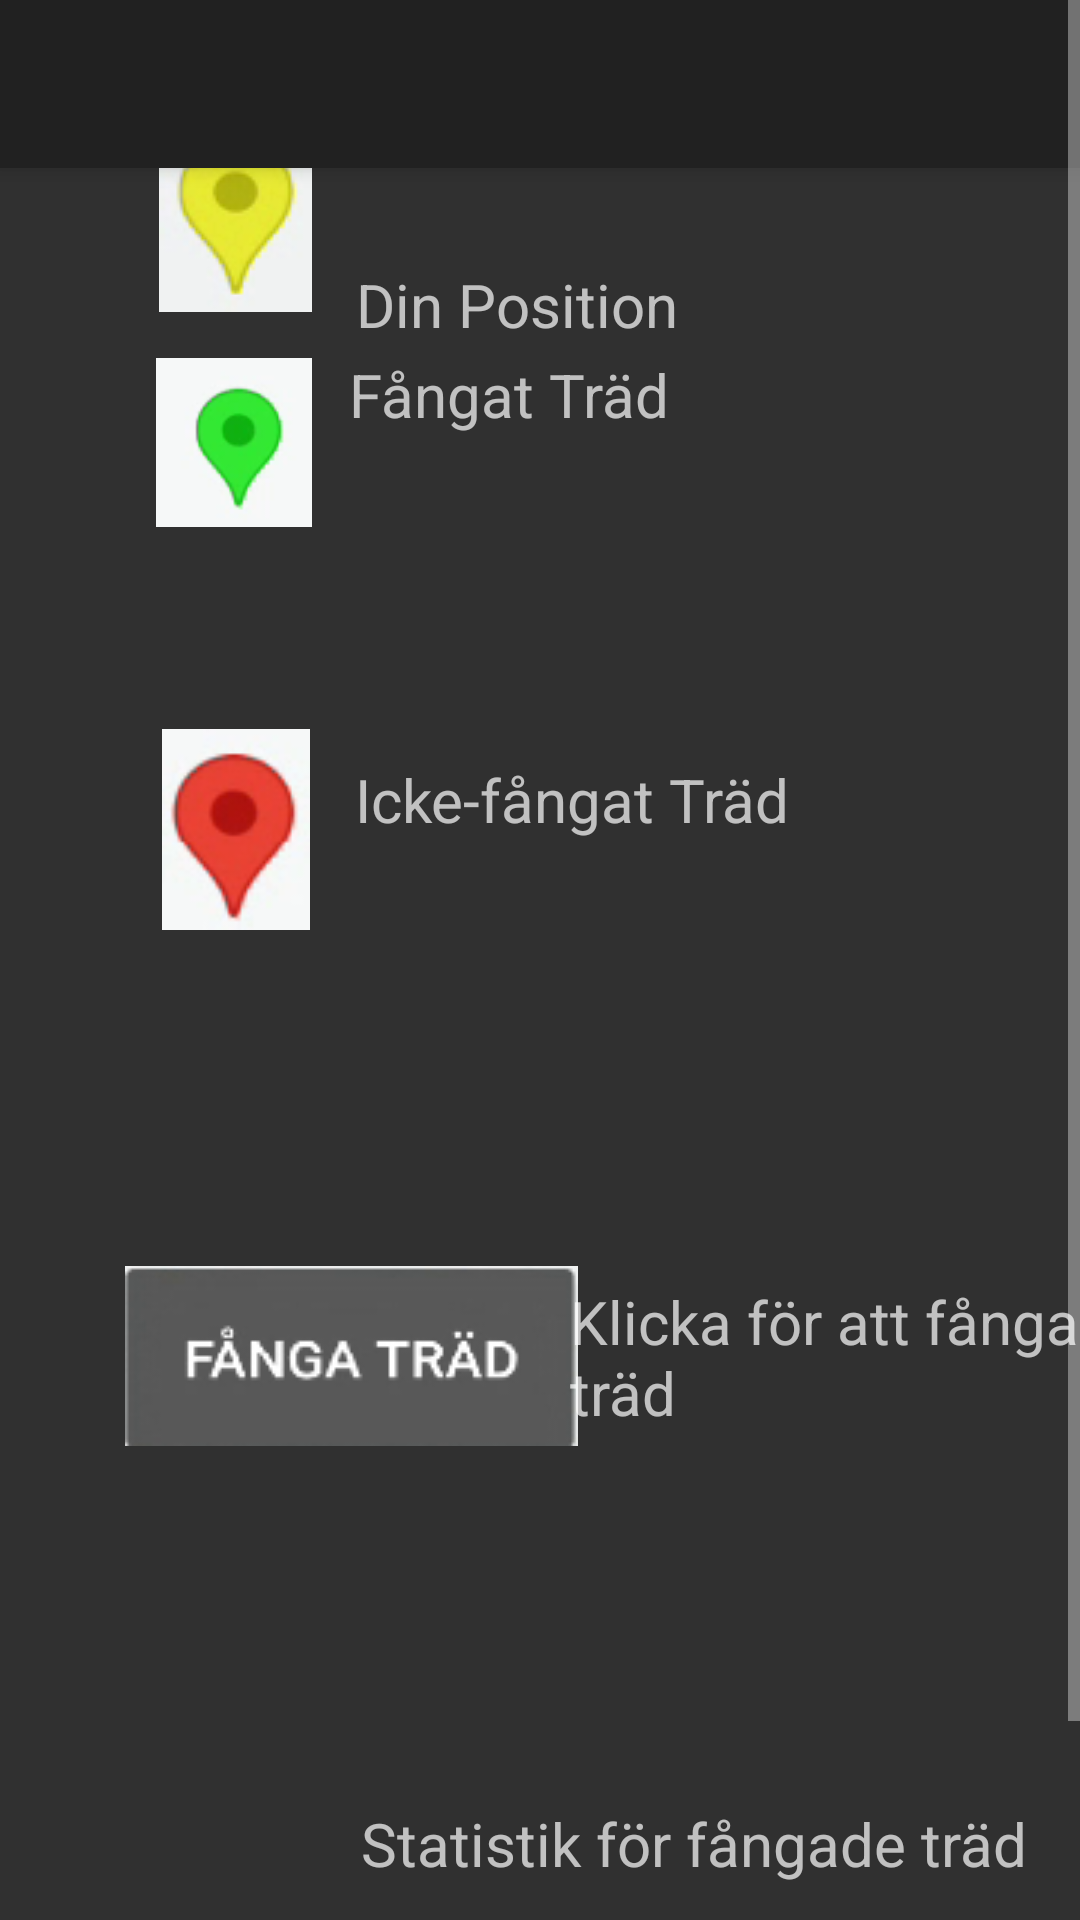

Icons on this 1080*1920 Android screen, each with its box as (x1, y1, x2, y2):
greenmarker: (156, 358, 312, 527)
